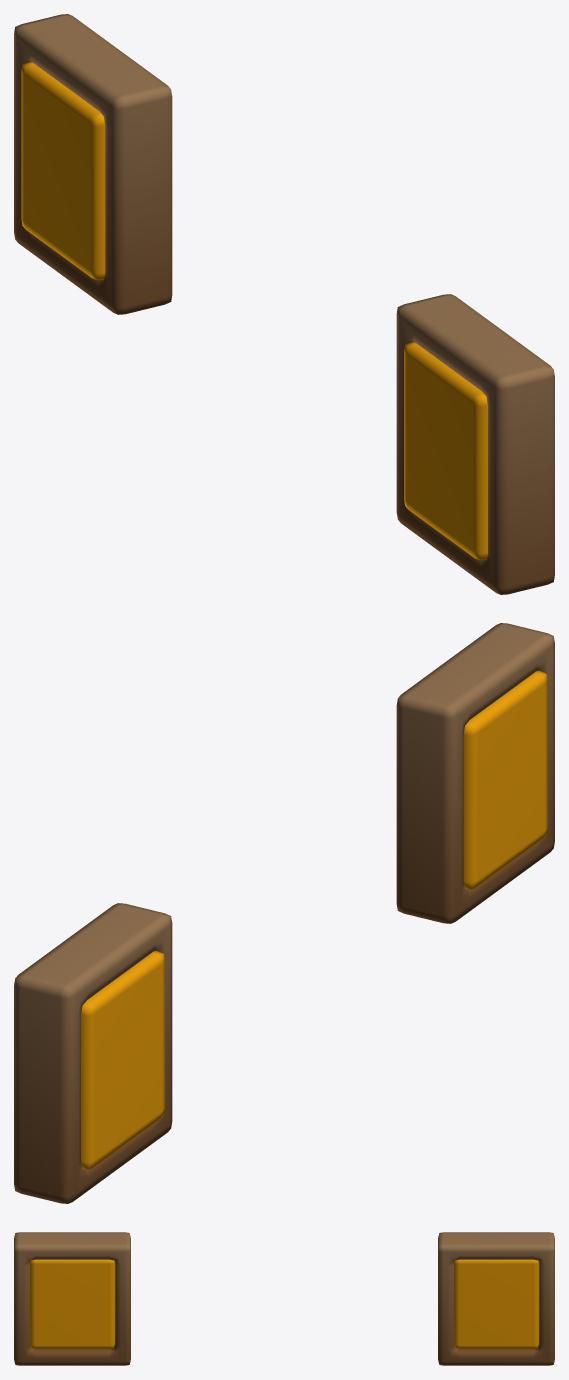
File: SM_Clay_Window_02.fbx
3 views of the same model, one above another, from view 1: azimuth 30°, elevation 25°; view 2: azimuth 150°, elevation 25°; view 3: azimuth 270°, elevation 25° (orthographic). The views are drawn at different scales.
Parts seen in each view (by area): view 1: SM_Clay_Window_02; view 2: SM_Clay_Window_02; view 3: SM_Clay_Window_02.
Part boxes in pixels (left/top/right/bottom): SM_Clay_Window_02: left=14, top=14, right=554, bottom=594; SM_Clay_Window_02: left=14, top=623, right=554, bottom=1203; SM_Clay_Window_02: left=14, top=1232, right=554, bottom=1365.
Size of the model in its own units: 0.1031 by 0.3325 by 1.35.
